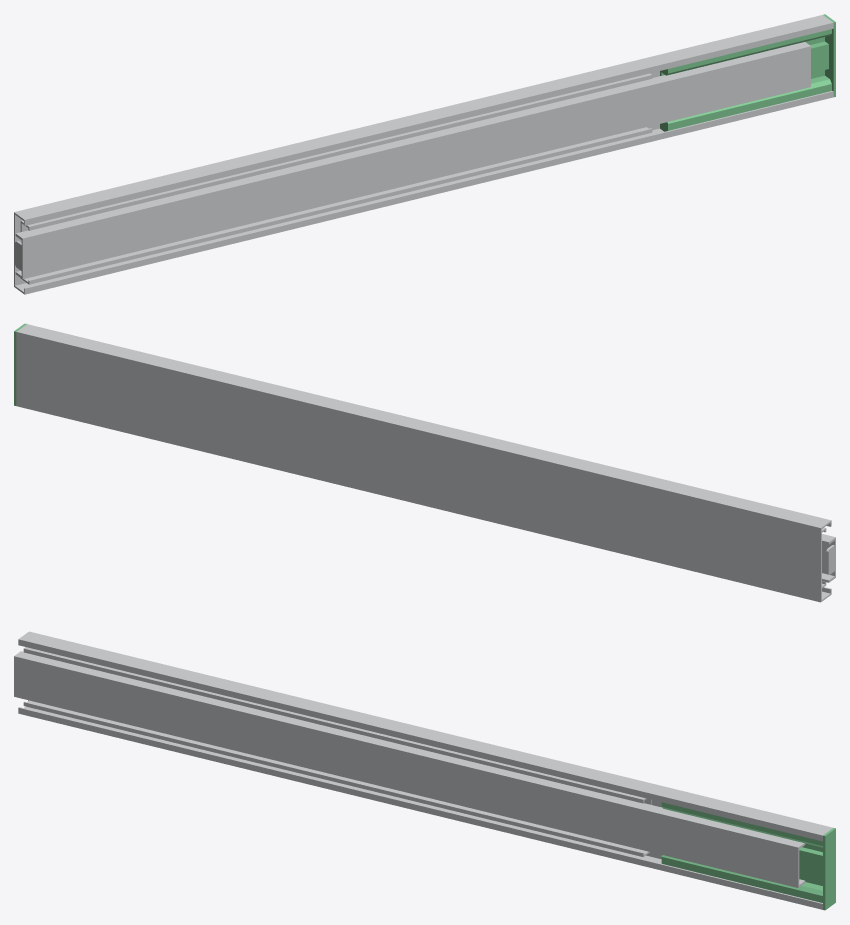
3 renders of one model, top to bottom at view 1: azimuth 30°, elevation 25°; view 2: azimuth 150°, elevation 25°; view 3: azimuth 330°, elevation 25°, orthographic.
Visible parts, largest first — view 1: ed63f368aba0; view 2: ed63f368aba0; view 3: ed63f368aba0.
Part boxes in pixels (left/top/right/bottom): ed63f368aba0: left=14, top=14, right=835, bottom=294; ed63f368aba0: left=14, top=323, right=835, bottom=602; ed63f368aba0: left=14, top=631, right=835, bottom=910.
Size of the model in its own units: 502 by 44 by 12.7.
